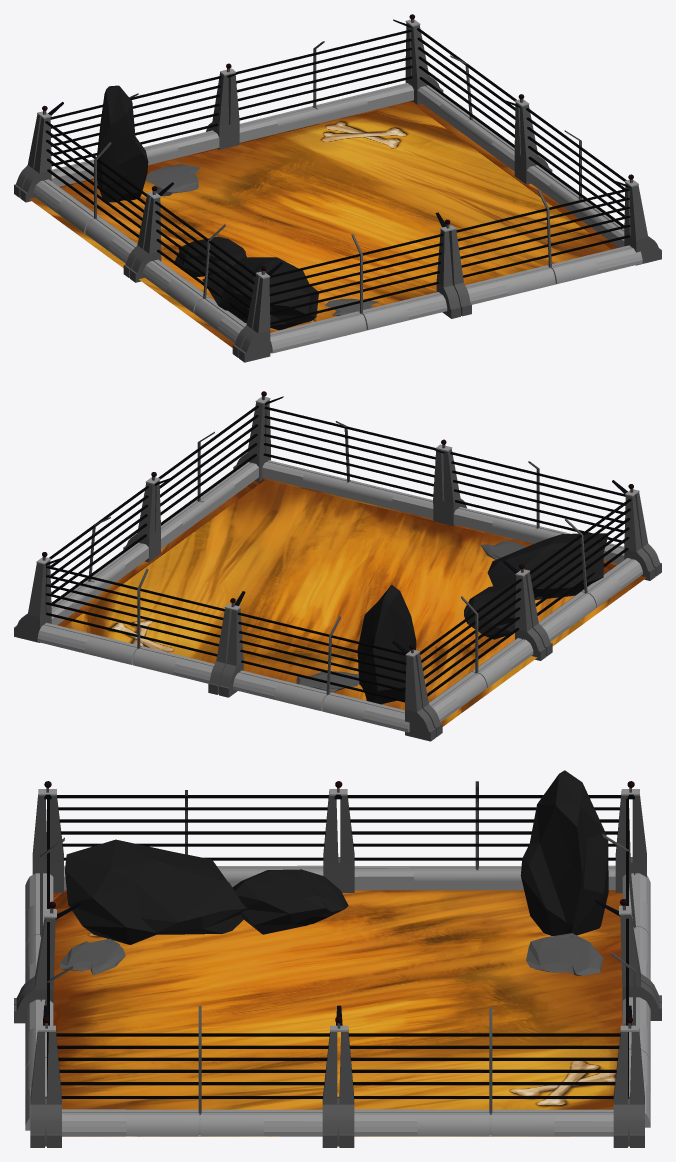
File: Cage_4.fbx
3 renders of one model, top to bottom at view 1: azimuth 30°, elevation 25°; view 2: azimuth 150°, elevation 25°; view 3: azimuth 270°, elevation 25°, orthographic. The views are drawn at different scales.
Visible parts, largest first — view 1: Cage_4; view 2: Cage_4; view 3: Cage_4.
Boxes of the visible parts, x1=… form: Cage_4: x1=14, y1=14, x2=661, y2=362; Cage_4: x1=14, y1=391, x2=661, y2=741; Cage_4: x1=14, y1=770, x2=661, y2=1147.
Size of the model in its own units: 22.82 by 6.68 by 23.07.
